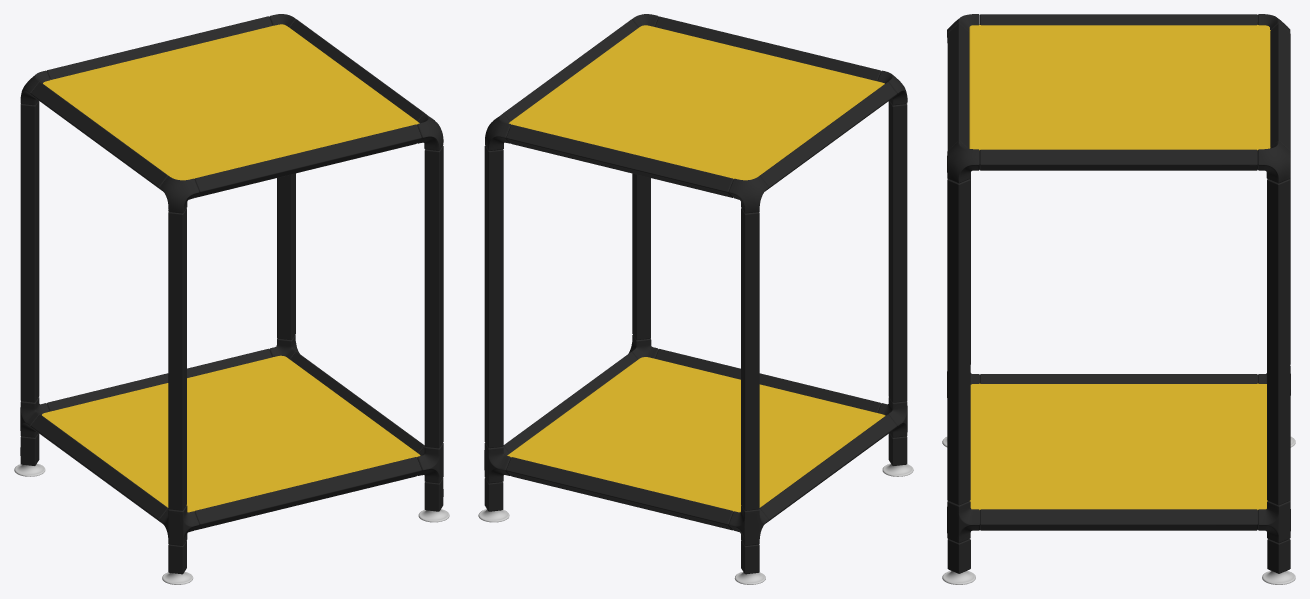
3 renders of one model, left to right at view 1: azimuth 30°, elevation 25°; view 2: azimuth 150°, elevation 25°; view 3: azimuth 270°, elevation 25°, orthographic. The views are drawn at different scales.
Visible parts, largest first — view 1: 329x329x420; view 2: 329x329x420; view 3: 329x329x420.
Boxes of the visible parts, x1=… form: 329x329x420: x1=14, y1=14, x2=449, y2=584; 329x329x420: x1=478, y1=14, x2=913, y2=584; 329x329x420: x1=942, y1=14, x2=1295, y2=584.
Bounding box in the file's own units: 0.4189 × 0.5593 × 0.4183.
